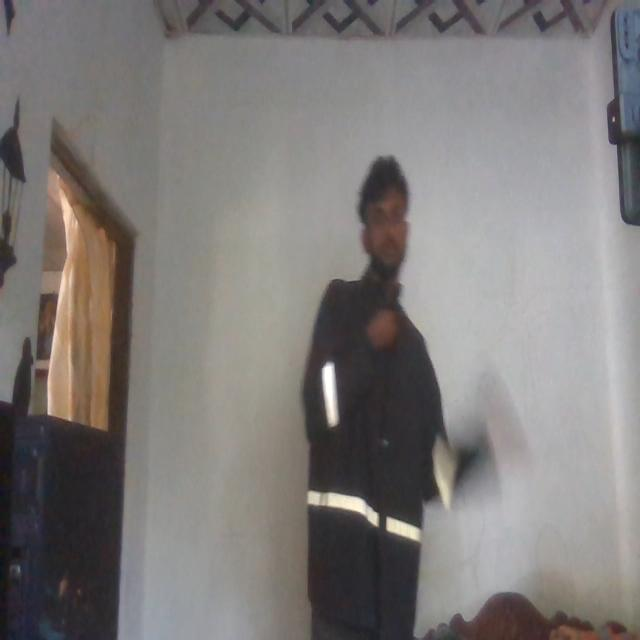Jacket_Wearer: (299, 271, 447, 628)
Person: (298, 147, 472, 640)
